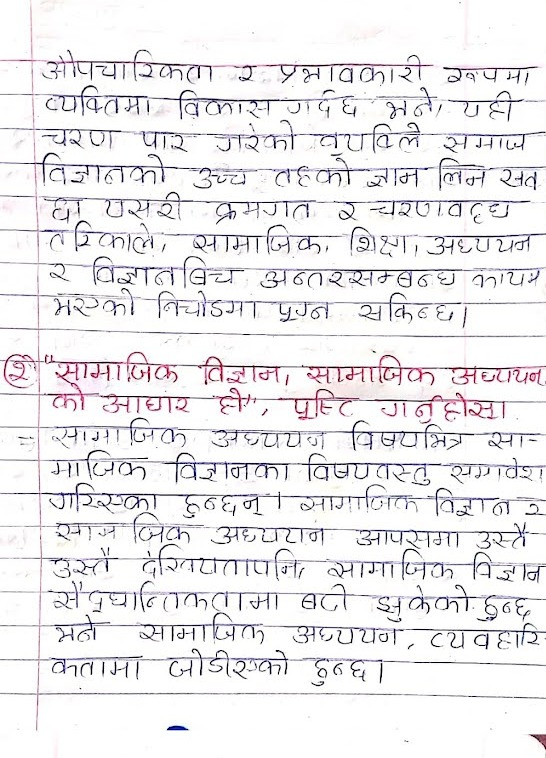text: (45, 580, 279, 615), (135, 542, 301, 582), (40, 48, 216, 85), (32, 149, 173, 188), (257, 265, 464, 291), (277, 54, 431, 87), (50, 511, 192, 545), (369, 193, 526, 223), (165, 449, 292, 486), (302, 451, 433, 486), (303, 353, 437, 387), (322, 547, 460, 580), (296, 481, 421, 517), (166, 644, 290, 680), (188, 224, 326, 256), (53, 350, 181, 384), (137, 613, 265, 647), (345, 420, 474, 453), (51, 417, 187, 448), (370, 581, 470, 623), (374, 392, 501, 425), (358, 290, 459, 329), (316, 120, 425, 156), (39, 84, 155, 117), (46, 481, 161, 514), (45, 219, 154, 253), (206, 423, 329, 453), (48, 447, 153, 482), (170, 86, 276, 120), (206, 520, 331, 548), (206, 194, 314, 226), (423, 625, 546, 653), (153, 289, 263, 320), (421, 229, 545, 256), (288, 620, 403, 649), (88, 250, 177, 287), (176, 486, 267, 521), (445, 454, 546, 485), (49, 286, 139, 320), (213, 120, 298, 155), (468, 548, 546, 586), (430, 484, 515, 518), (100, 187, 184, 221), (196, 353, 284, 385), (447, 361, 546, 389), (351, 525, 465, 549), (273, 154, 354, 187), (101, 389, 192, 418), (281, 388, 359, 421), (440, 62, 538, 88), (47, 656, 145, 681), (453, 91, 526, 124), (177, 254, 244, 289), (45, 547, 116, 580), (342, 223, 409, 257), (303, 652, 367, 687), (285, 88, 360, 117), (439, 131, 534, 153), (38, 125, 121, 150), (432, 156, 491, 191), (378, 85, 436, 120), (184, 162, 255, 190), (470, 264, 542, 290), (271, 295, 332, 325), (478, 592, 534, 623), (50, 614, 104, 645), (475, 522, 534, 550), (47, 381, 95, 414), (365, 165, 426, 190), (137, 126, 193, 153), (299, 584, 350, 612), (41, 189, 84, 219), (498, 163, 544, 190), (482, 427, 530, 452), (212, 387, 246, 417), (331, 196, 362, 225), (231, 61, 265, 83), (4, 360, 31, 385), (45, 260, 72, 284), (520, 494, 546, 517)
